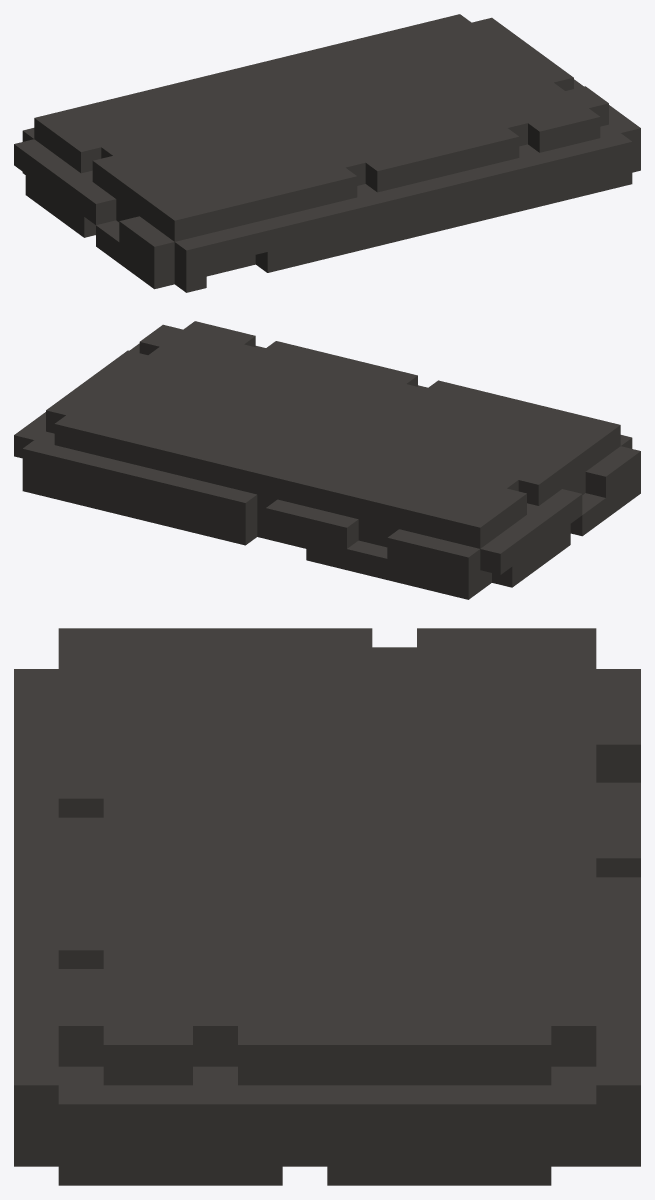
File: AncientArtifacts-1.obj
3 views of the same model, one above another, from view 1: azimuth 30°, elevation 25°; view 2: azimuth 150°, elevation 25°; view 3: azimuth 270°, elevation 25° (orthographic). The views are drawn at different scales.
Size of the model in its own units: 2.4 by 0.3 by 1.4.
Materials: 1 (1 with a texture image).
